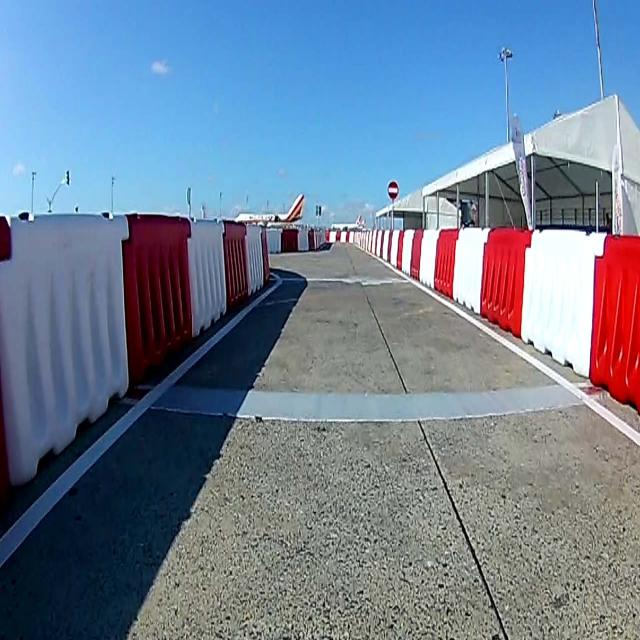girisyok: (386, 180, 399, 200)
